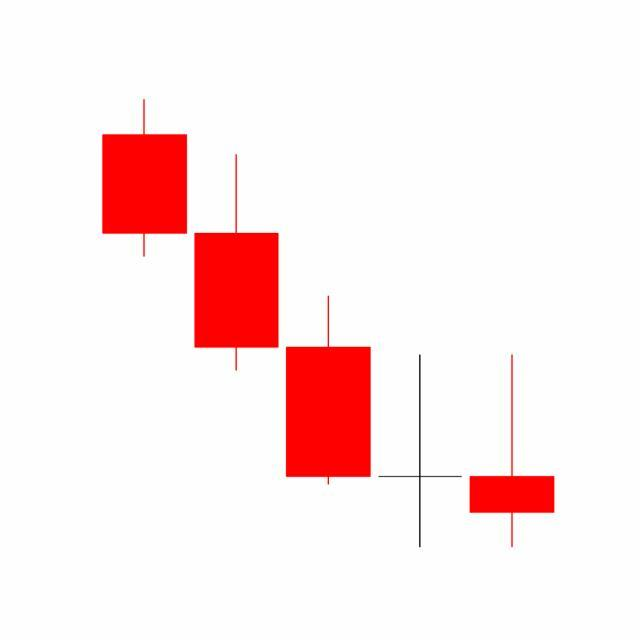Spinning Top: (466, 352, 559, 550)
